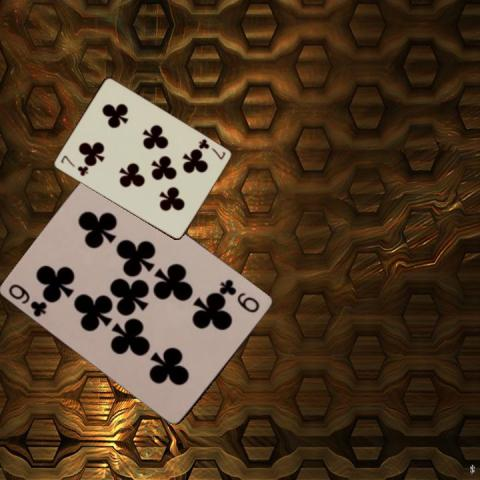7c: (195, 136, 227, 161), (58, 153, 90, 177)
9c: (218, 276, 262, 315), (6, 280, 50, 318)
